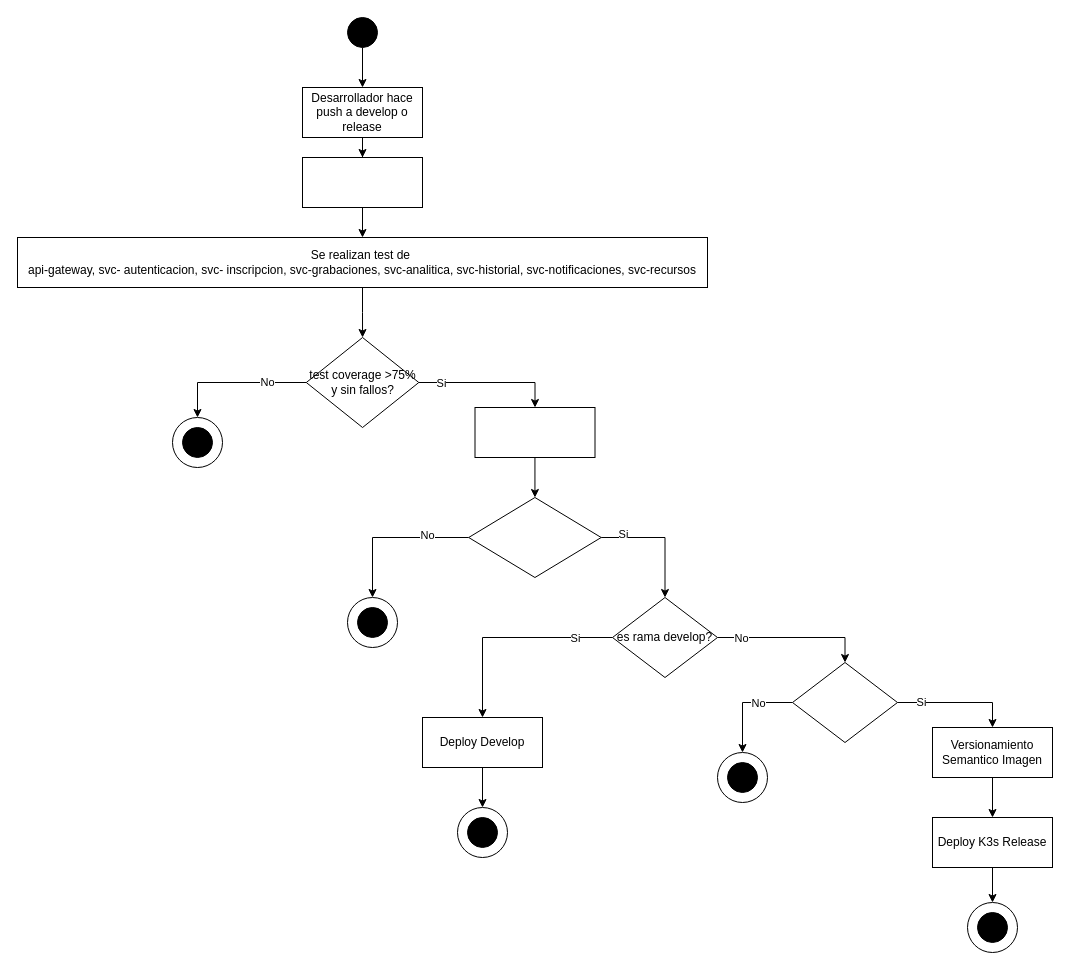
Image size: 1070x970. Some labels were removed from this diagram. The box of each missing label's shape, as (x1, y1, x2, y2) in pixels:
Build and Push DockerHub: (474, 406, 595, 458)
Build and Push sin fallos?: (468, 496, 601, 578)
es rama release?: (792, 662, 898, 742)
Github recibe push y dispara webhook al ci/cd: (302, 156, 422, 208)
